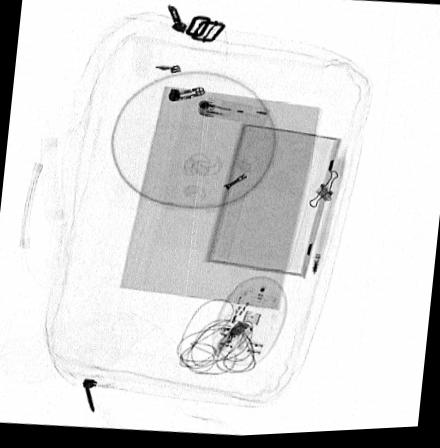Lighter: (197, 97, 272, 127)
